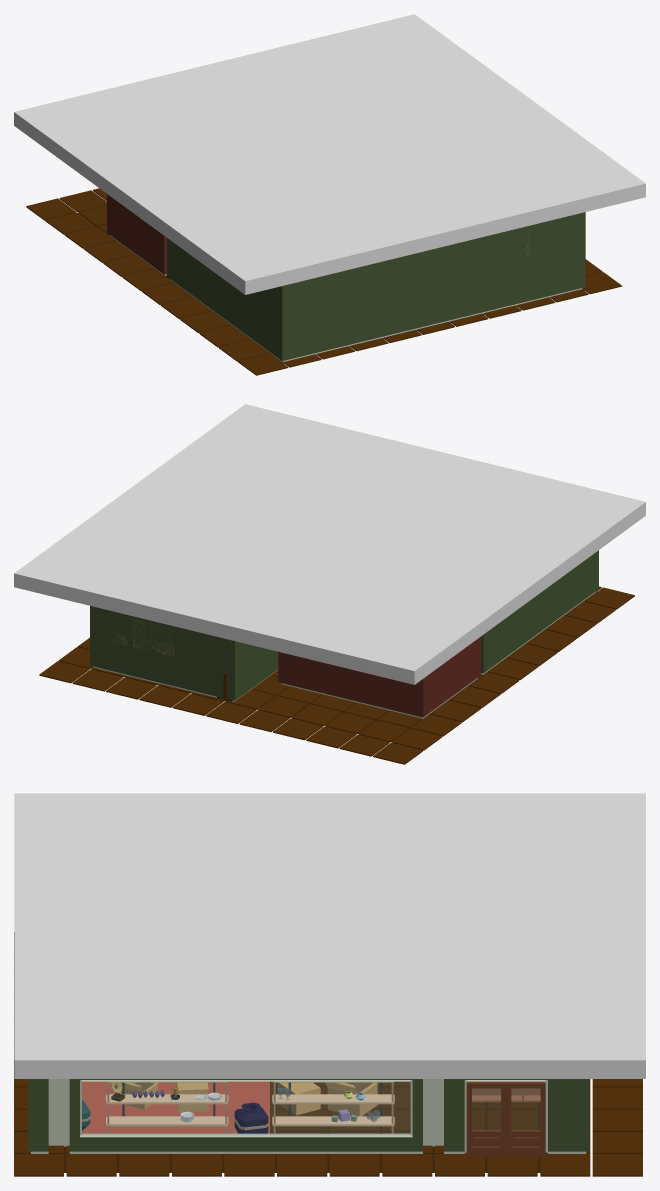
Rendered from scaryroom.gltf.
The picture shows the model from 3 angles, top to bottom: view 1: azimuth 30°, elevation 25°; view 2: azimuth 150°, elevation 25°; view 3: azimuth 270°, elevation 25°; orthographic projection. The views are drawn at different scales.
Visible parts, largest first — view 1: Ceiling, Room, FloorTiles; view 2: Ceiling, Room, FloorTiles; view 3: Ceiling, Room, FloorTiles, Plane.003, MainDoor.001, MainDoor, Shelf, Shelf.001, Box.002, Vase, Counter, BoxClosed (+1 smaller).
Boxes of the visible parts, x1=… form: Ceiling: x1=14, y1=14, x2=645, y2=294; Room: x1=78, y1=194, x2=597, y2=363; FloorTiles: x1=26, y1=188, x2=621, y2=375; Ceiling: x1=14, y1=404, x2=645, y2=684; Room: x1=82, y1=550, x2=598, y2=741; FloorTiles: x1=39, y1=586, x2=634, y2=764; Ceiling: x1=14, y1=793, x2=645, y2=1078; Room: x1=28, y1=1079, x2=589, y2=1172; FloorTiles: x1=14, y1=932, x2=642, y2=1176; Plane.003: x1=82, y1=1081, x2=269, y2=1133; MainDoor.001: x1=466, y1=1081, x2=506, y2=1156; MainDoor: x1=506, y1=1081, x2=545, y2=1156; Shelf: x1=272, y1=1081, x2=394, y2=1133; Shelf.001: x1=106, y1=1081, x2=228, y2=1133; Box.002: x1=325, y1=1082, x2=377, y2=1116; Vase: x1=234, y1=1102, x2=268, y2=1133; Counter: x1=472, y1=1088, x2=540, y2=1102; BoxClosed: x1=277, y1=1082, x2=320, y2=1115.
Bounding box in the file's own units: 30.38 × 7.28 × 30.39.
48 materials, 22 textured.
